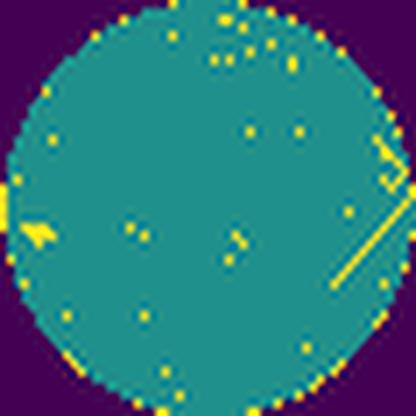Scratch: (325, 185, 416, 298)
